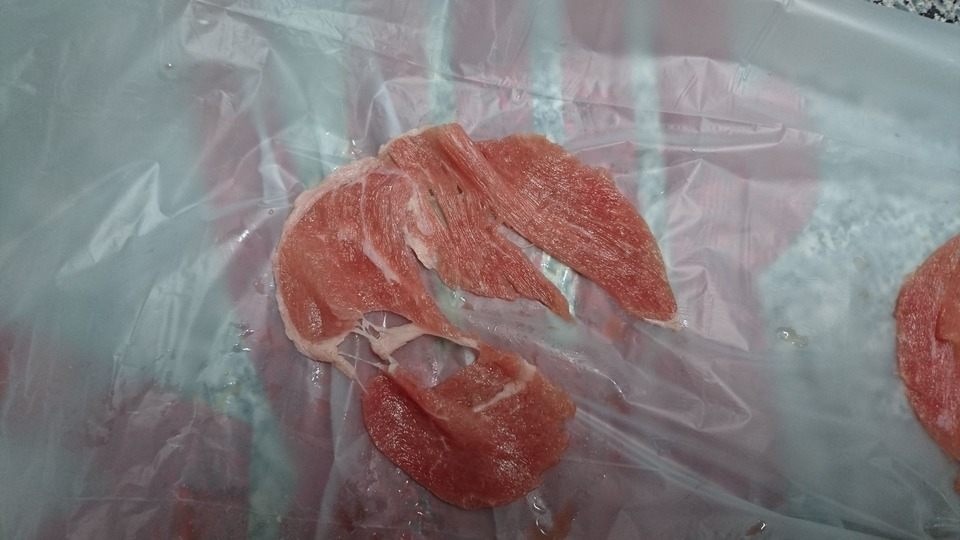restructured meat: (274, 124, 673, 483), (893, 221, 960, 453)
